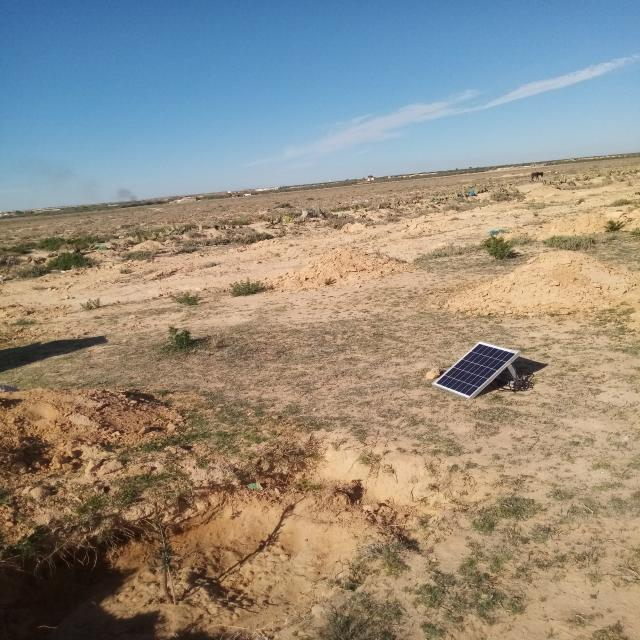no faulty: (432, 341, 520, 398)
